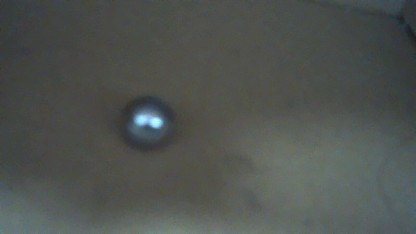ironball: (116, 82, 168, 161)
